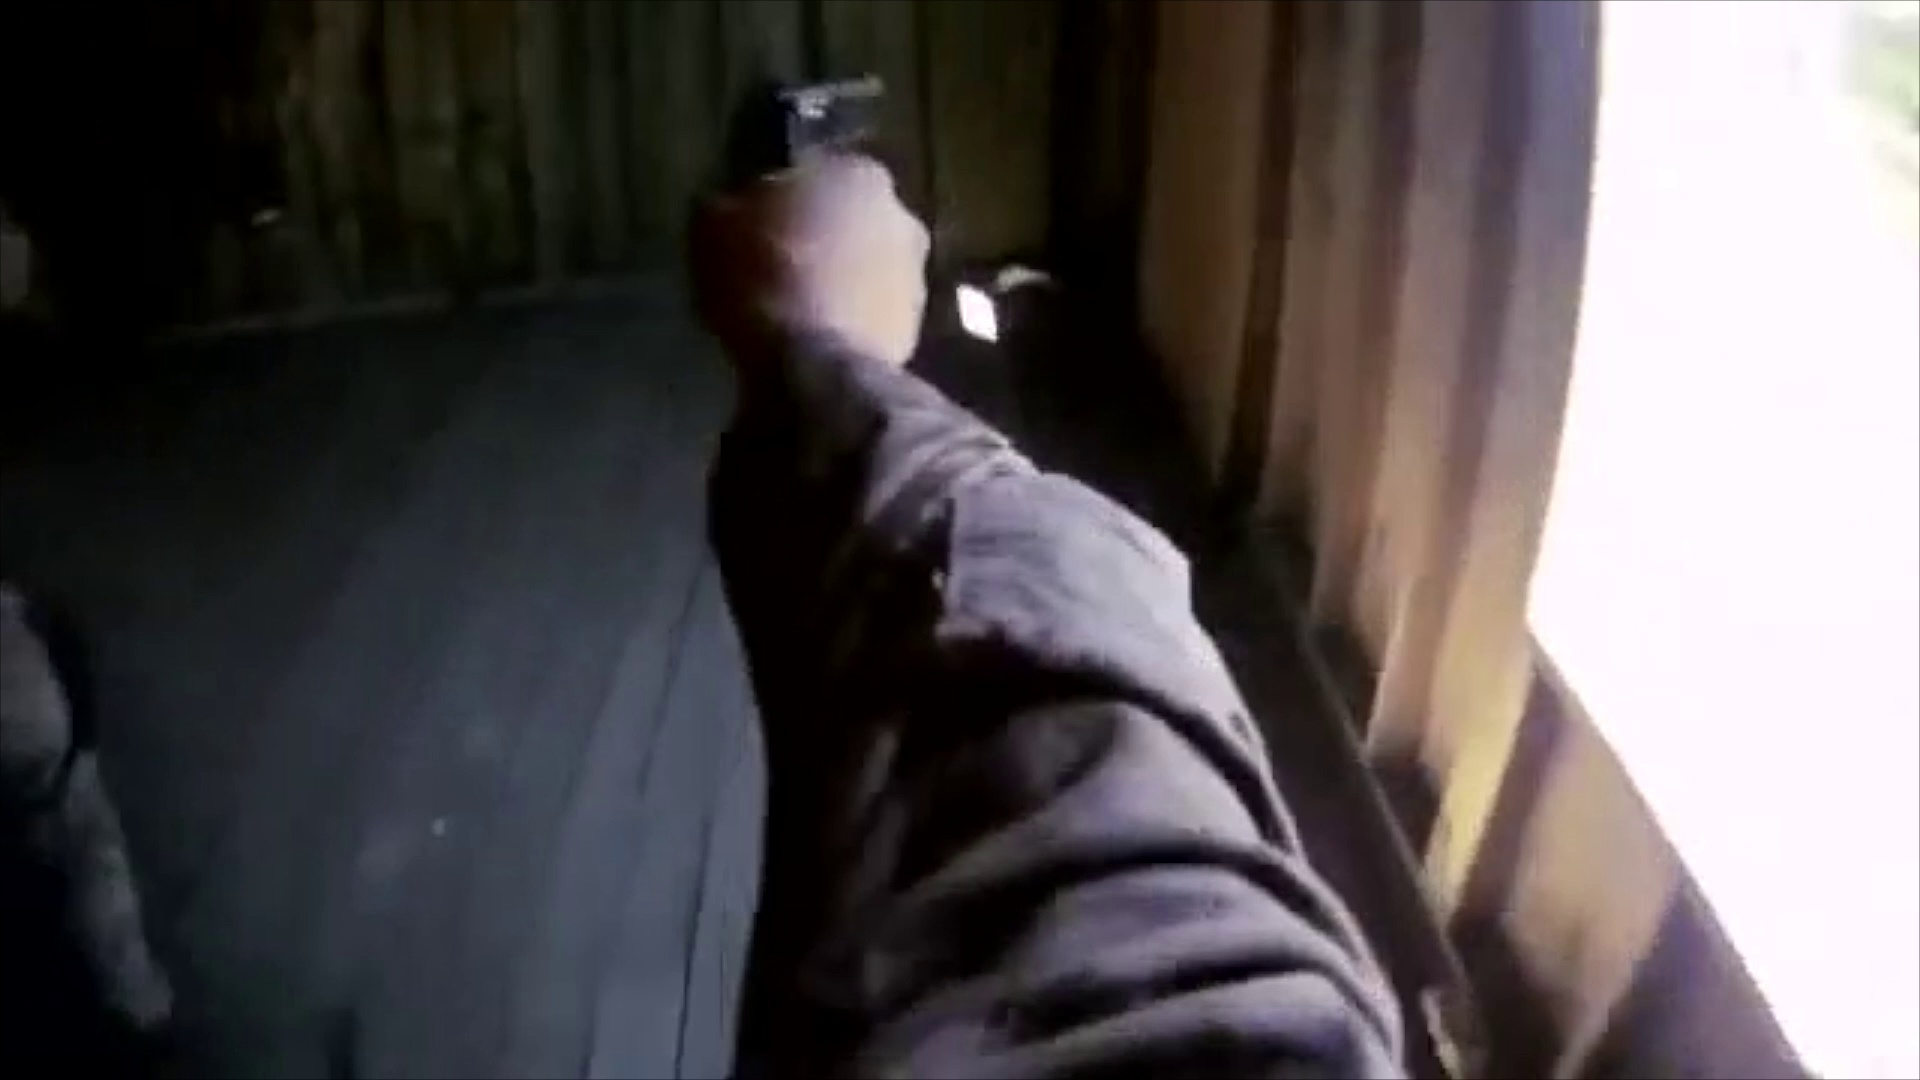gun: (709, 57, 903, 171)
